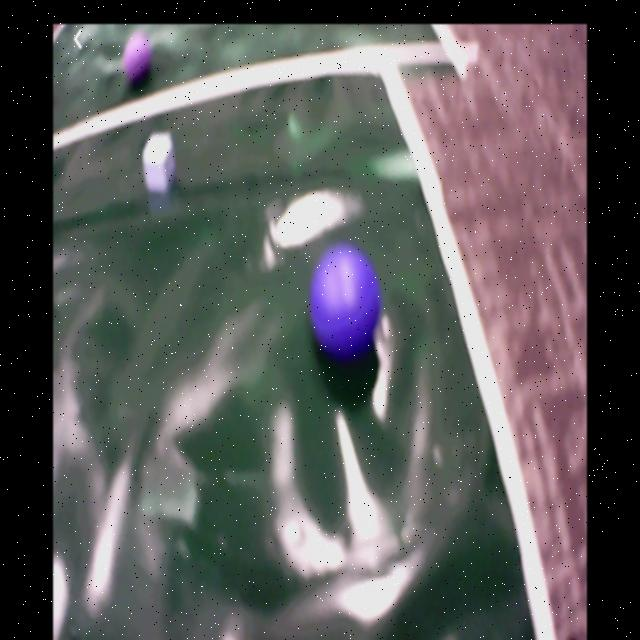ball: (310, 247, 382, 358), (123, 31, 152, 87)
